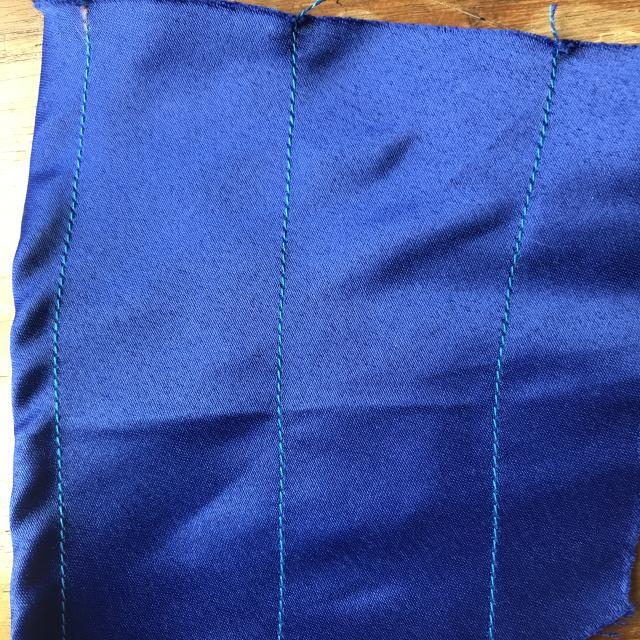good: (265, 151, 306, 280), (62, 119, 94, 208)
